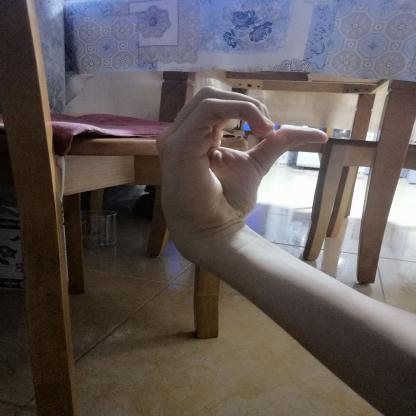WAW: (136, 77, 344, 246)
